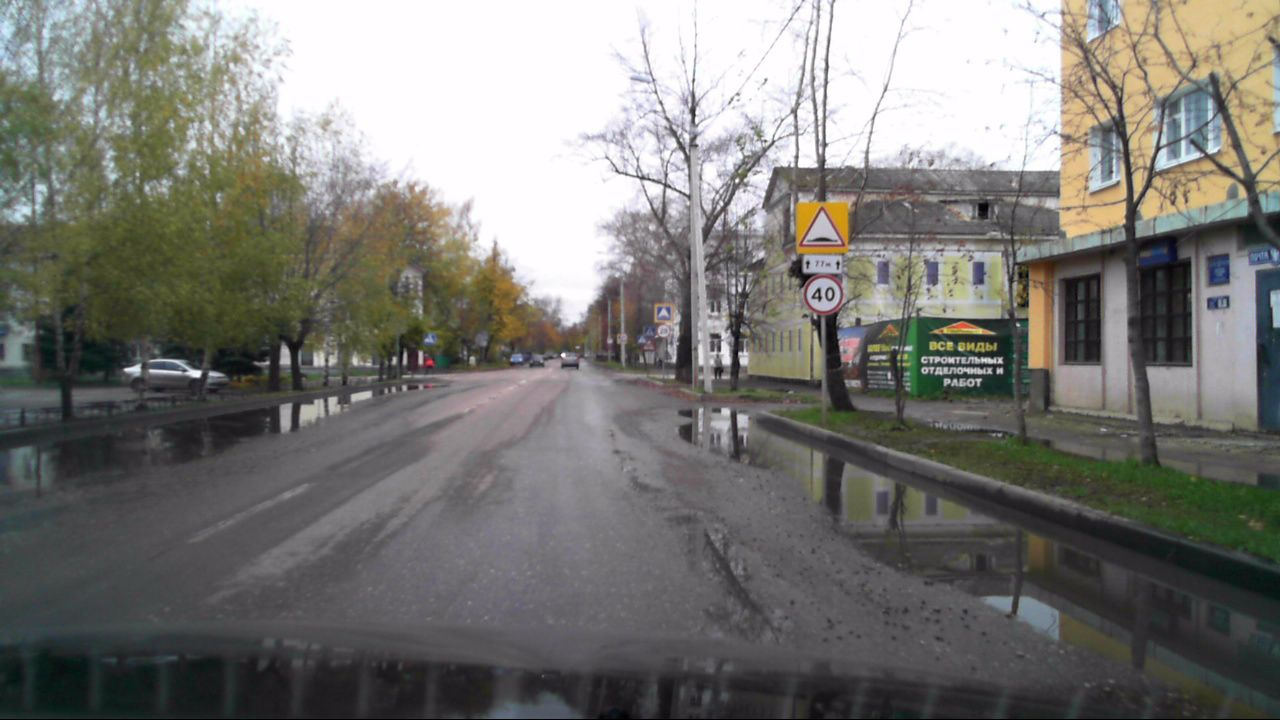speed_warning_40: (801, 275, 845, 316)
